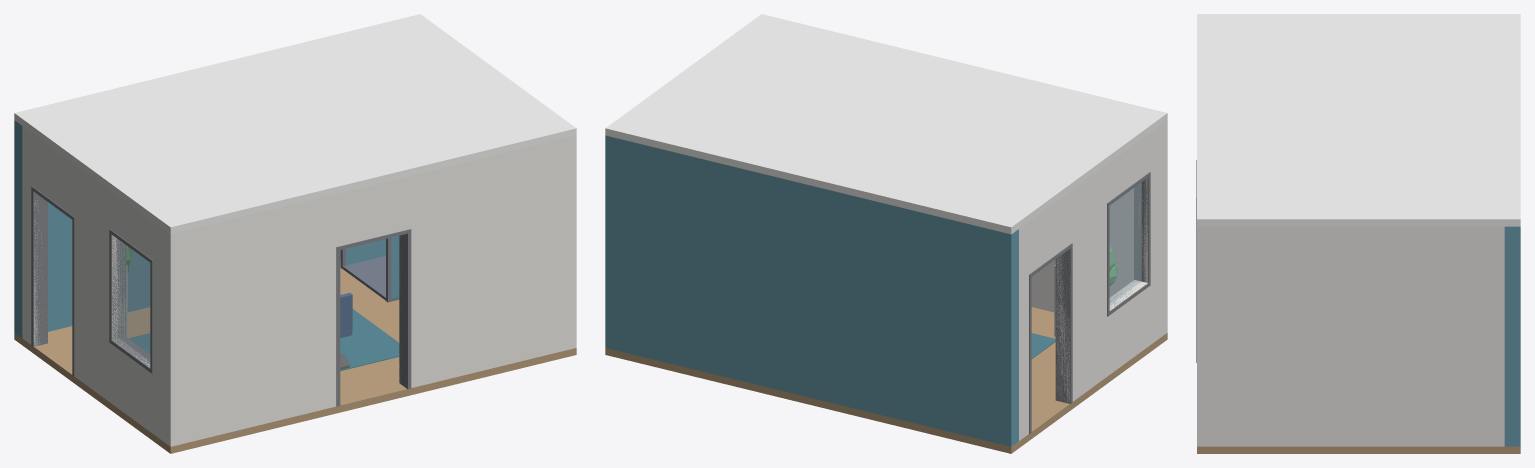
The picture shows the model from 3 angles, left to right: view 1: azimuth 30°, elevation 25°; view 2: azimuth 150°, elevation 25°; view 3: azimuth 270°, elevation 25°; orthographic projection. The views are drawn at different scales.
Visible parts, largest first — view 1: Wall_S, Ceiling, Wall_W, Floor, Frames_W, Wall_N, Frames_S, PhoneBooth_2, Rug, Chair_02; view 2: Wall_N, Ceiling, Wall_W, Frames_W, Floor, Wall_S; view 3: Ceiling, Wall_E, Wall_N, Wall_S, Floor.
Boxes of the visible parts, x1,y1,x2,y2 form: Wall_S: (163, 135, 576, 446); Ceiling: (14, 14, 576, 234); Wall_W: (22, 126, 162, 440); Floor: (14, 261, 576, 453); Frames_W: (31, 186, 152, 376); Wall_N: (14, 120, 340, 337); Frames_S: (336, 229, 411, 406); PhoneBooth_2: (340, 236, 399, 302); Rug: (129, 309, 399, 370); Chair_02: (340, 292, 352, 369); Wall_N: (605, 135, 1018, 446); Ceiling: (605, 14, 1167, 234); Wall_W: (1019, 126, 1159, 440); Frames_W: (1029, 172, 1150, 433); Floor: (605, 307, 1167, 453); Wall_S: (1031, 120, 1167, 337); Ceiling: (1197, 14, 1520, 226); Wall_E: (1213, 226, 1504, 446); Wall_N: (1504, 226, 1520, 446); Wall_S: (1197, 226, 1213, 446); Floor: (1197, 446, 1520, 453).
Bounding box in the file's own units: 6.01 × 3.2 × 4.01.
